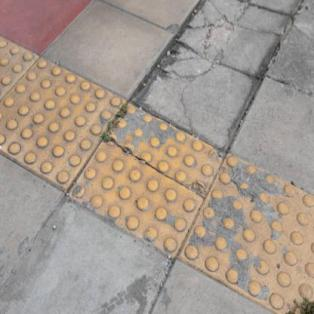Podoctatil: (1, 36, 314, 314)
